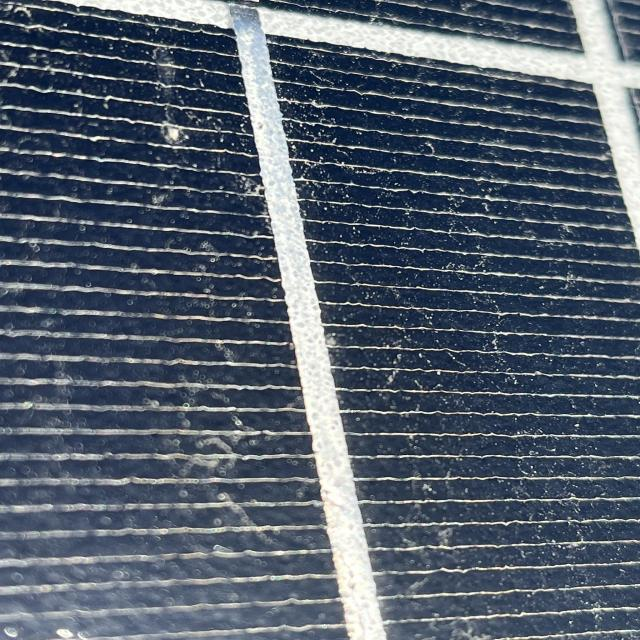dust-solar-panel: (2, 0, 637, 640)
